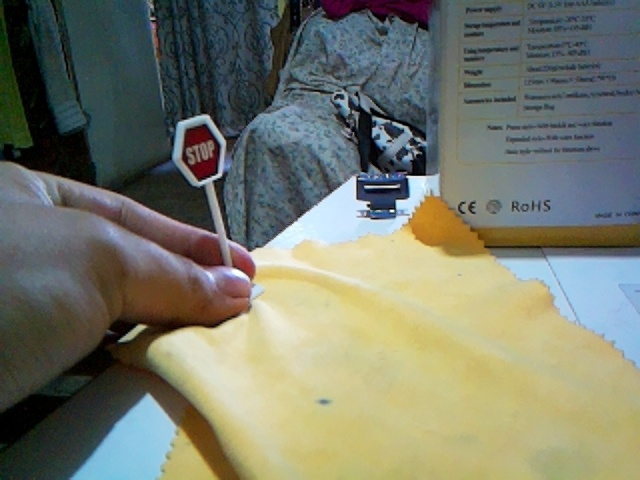stop_sign: (172, 115, 225, 186)
